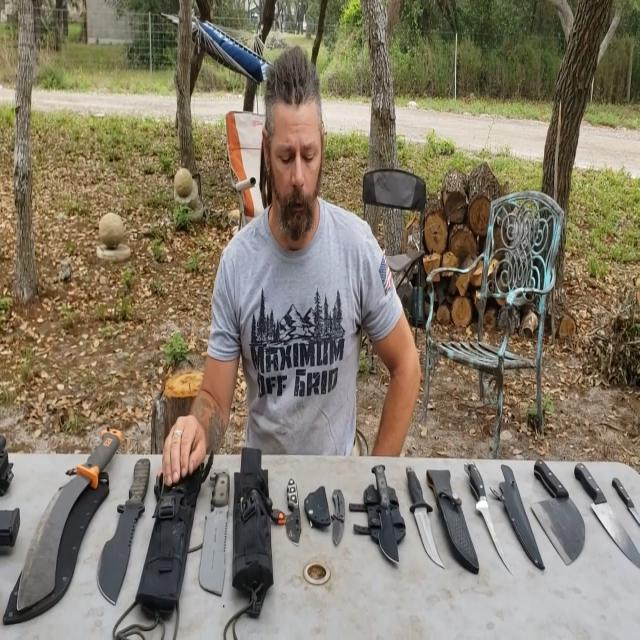knife: (17, 410, 118, 610), (86, 437, 160, 616), (454, 440, 522, 580), (568, 446, 640, 577), (523, 441, 591, 578), (365, 447, 417, 586), (192, 465, 241, 610), (396, 449, 449, 570), (322, 470, 357, 562), (280, 460, 308, 560), (608, 465, 640, 548)
